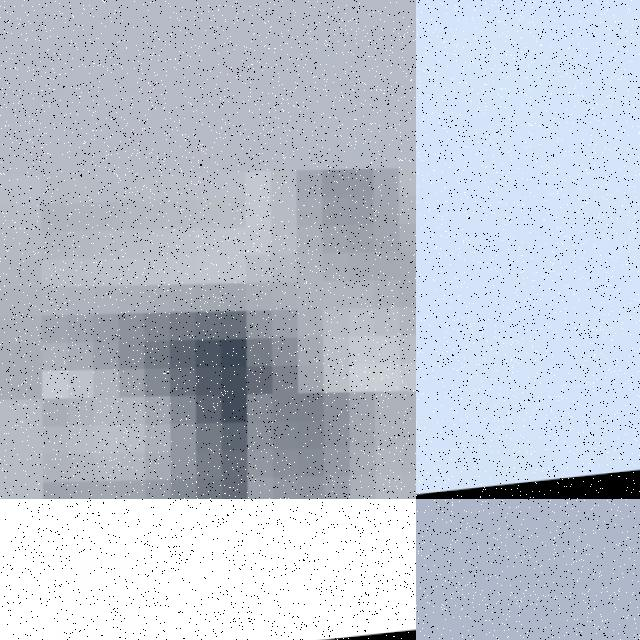0: (0, 0, 416, 499)
drone: (416, 0, 640, 499), (0, 499, 416, 640)
